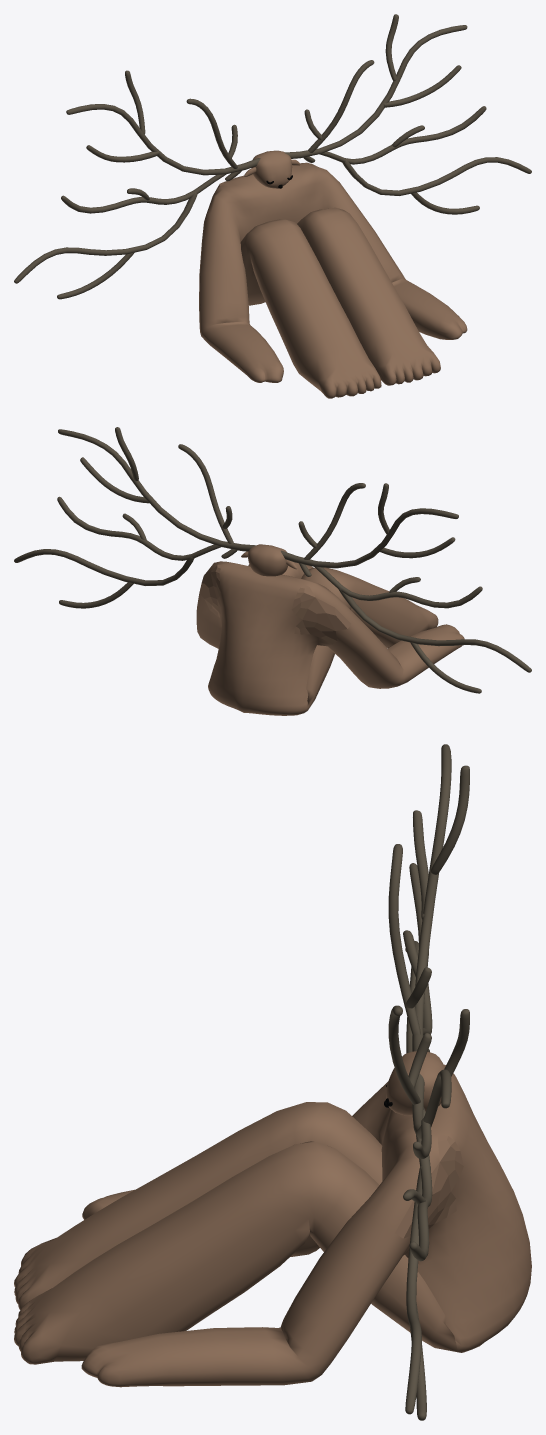
File: DeerShapeKeys.fbx
The picture shows the model from 3 angles, top to bottom: view 1: azimuth 30°, elevation 25°; view 2: azimuth 150°, elevation 25°; view 3: azimuth 270°, elevation 25°; orthographic projection. The views are drawn at different scales.
Visible parts, largest first — view 1: Cube.002; view 2: Cube.002; view 3: Cube.002.
Part boxes in pixels (<box>): Cube.002: <box>14,14,531,398</box>; Cube.002: <box>14,427,531,715</box>; Cube.002: <box>14,744,531,1420</box>.
Size of the model in its own units: 2386 by 1130 by 1192.
